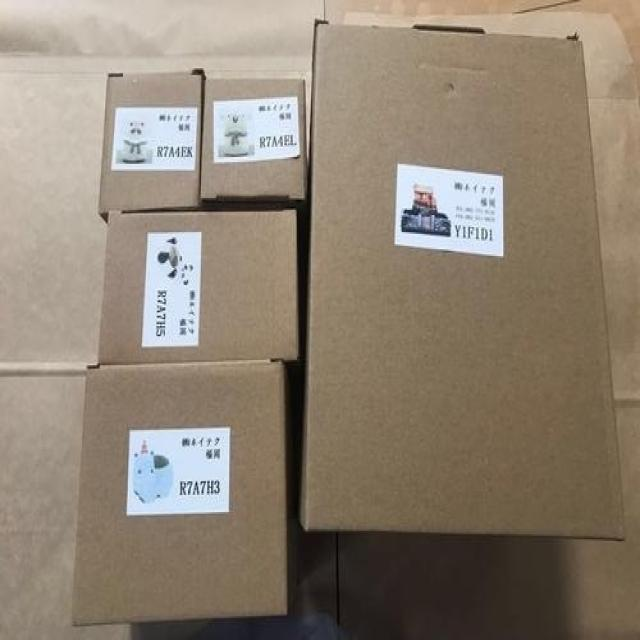box: (300, 17, 625, 541), (70, 358, 288, 628), (97, 208, 300, 364), (99, 68, 205, 224), (200, 79, 306, 201)
